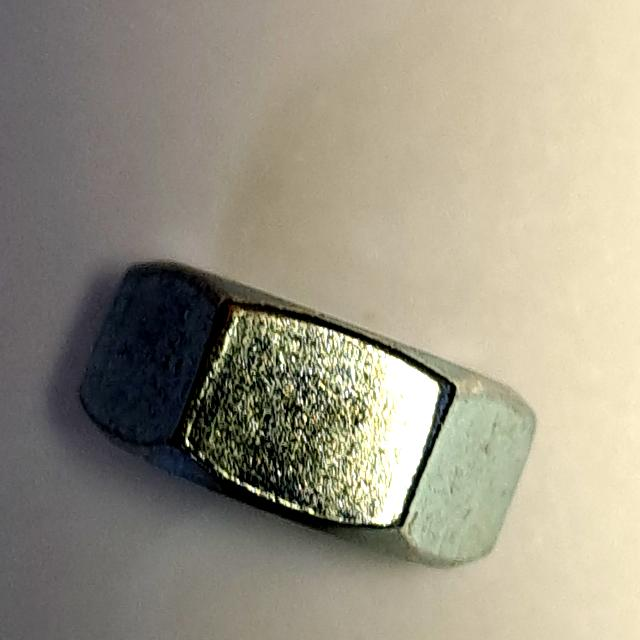Side_Excellent: (59, 251, 544, 581)
